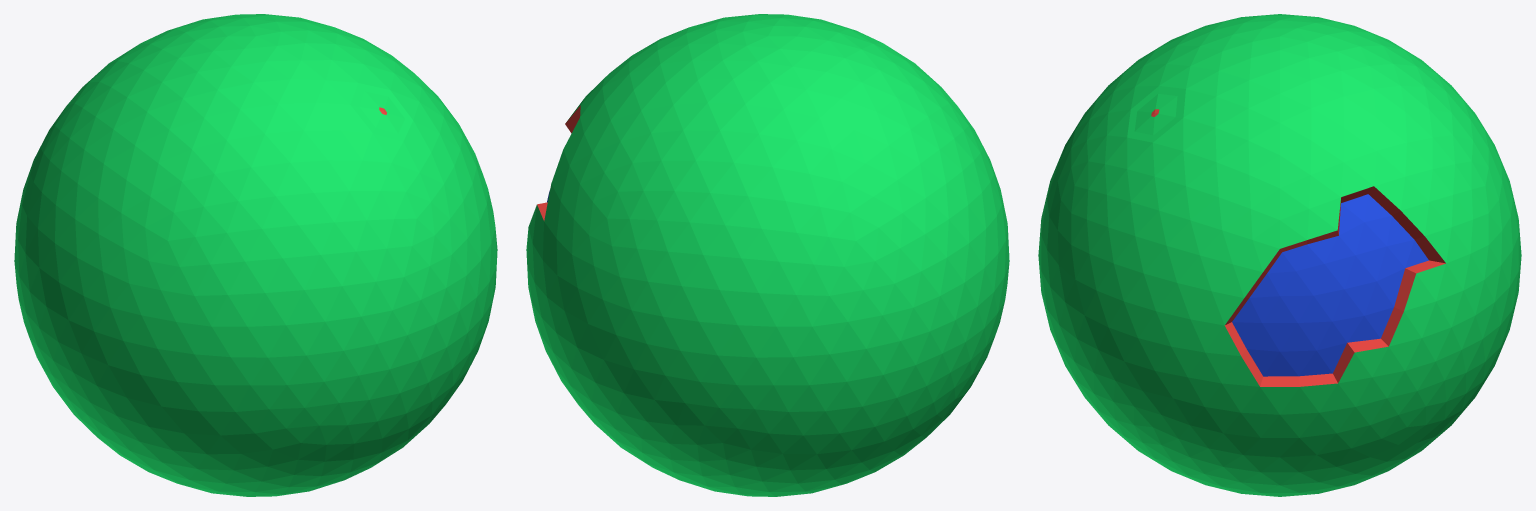
The model's file is Earth3.fbx.
3 views of the same model, side by side, from view 1: azimuth 30°, elevation 25°; view 2: azimuth 150°, elevation 25°; view 3: azimuth 270°, elevation 25° (orthographic).
Parts seen in each view (by area): view 1: Icosphere; view 2: Icosphere; view 3: Icosphere.
Part boxes in pixels (x1=…): Icosphere: x1=14, y1=14, x2=497, y2=496; Icosphere: x1=526, y1=14, x2=1009, y2=496; Icosphere: x1=1038, y1=14, x2=1521, y2=496.
Size of the model in its own units: 994 by 1000 by 1000.
